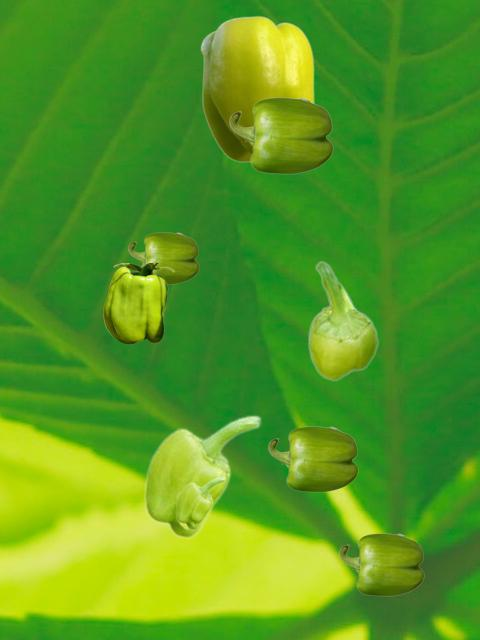bell_pepper: (200, 15, 313, 161), (143, 414, 261, 538), (307, 261, 378, 380), (229, 97, 332, 173), (268, 426, 357, 491), (103, 263, 173, 343), (339, 533, 423, 595), (128, 232, 198, 283), (175, 476, 225, 529)
